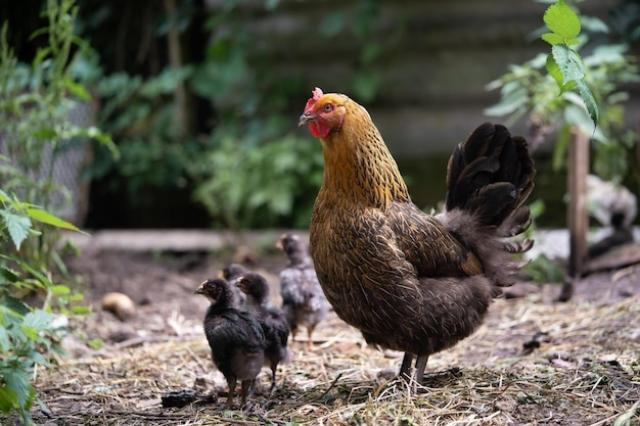Chicken: (298, 87, 535, 389)
